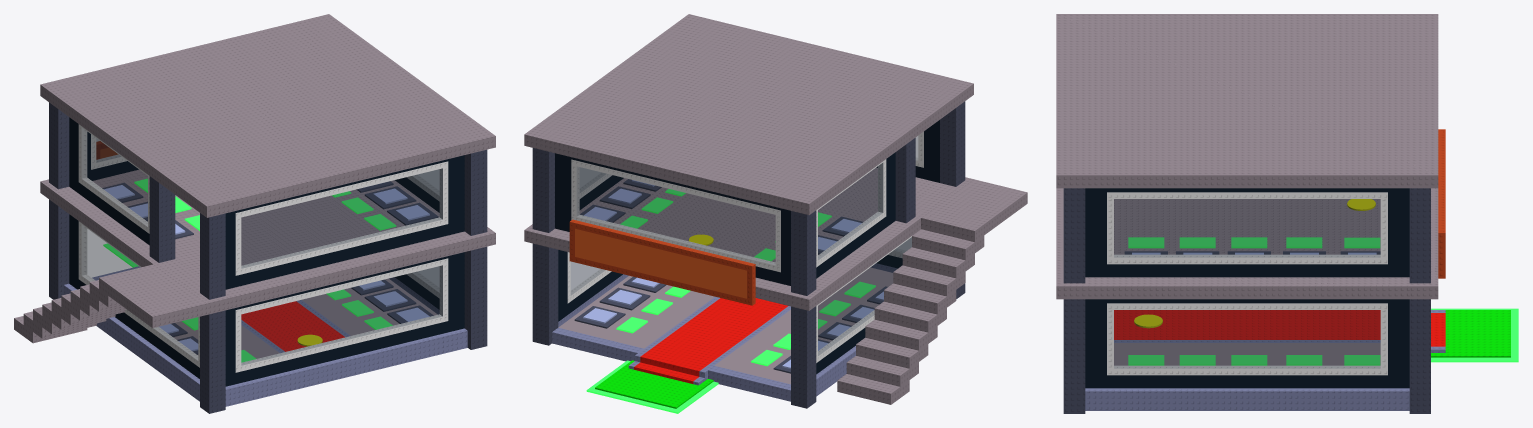
3 renders of one model, left to right at view 1: azimuth 30°, elevation 25°; view 2: azimuth 150°, elevation 25°; view 3: azimuth 270°, elevation 25°, orthographic. The views are drawn at different scales.
Parts seen in each view (by area): view 1: 2Floor; view 2: 2Floor; view 3: 2Floor.
Boxes of the visible parts, x1,y1,x2,y2 form: 2Floor: (14, 14, 495, 413); 2Floor: (524, 14, 1027, 413); 2Floor: (1056, 14, 1518, 413).
Bounding box in the file's own units: 68.61 × 40.29 × 69.83.
17 materials, 8 textured.
